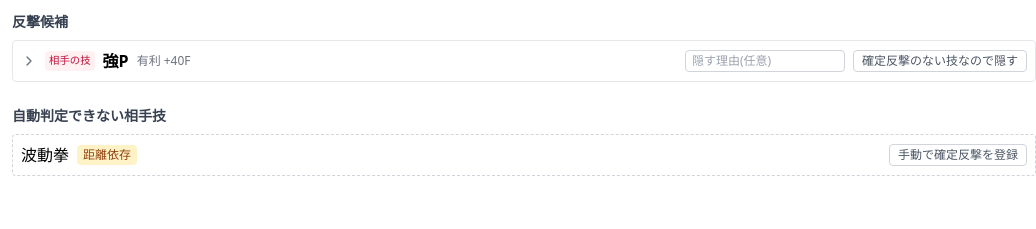
Test: PunishTree › 始動技行に『採用/不採用』トグルと不採用理由入力欄を出す
What coordinates should you click on to do the following:
click the button with aria-label "expand"
I would click on:
 (106, 61)
Its box is [21, 49, 191, 73].
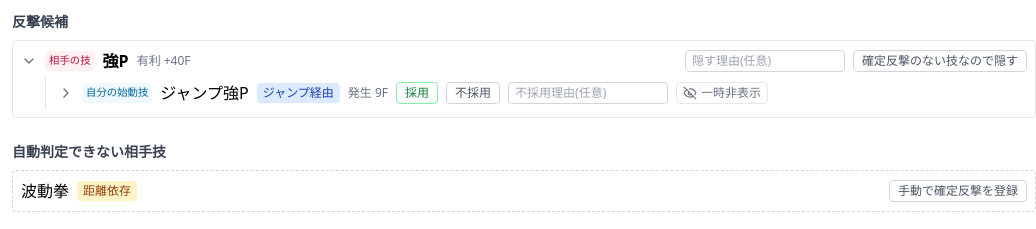
Expected: the text "ジャンプ経由" is shown, [257, 83, 340, 103]
Expected: the button "採用" is shown, [396, 82, 438, 104]
Expected: the button "不採用" is shown, [446, 82, 500, 104]
